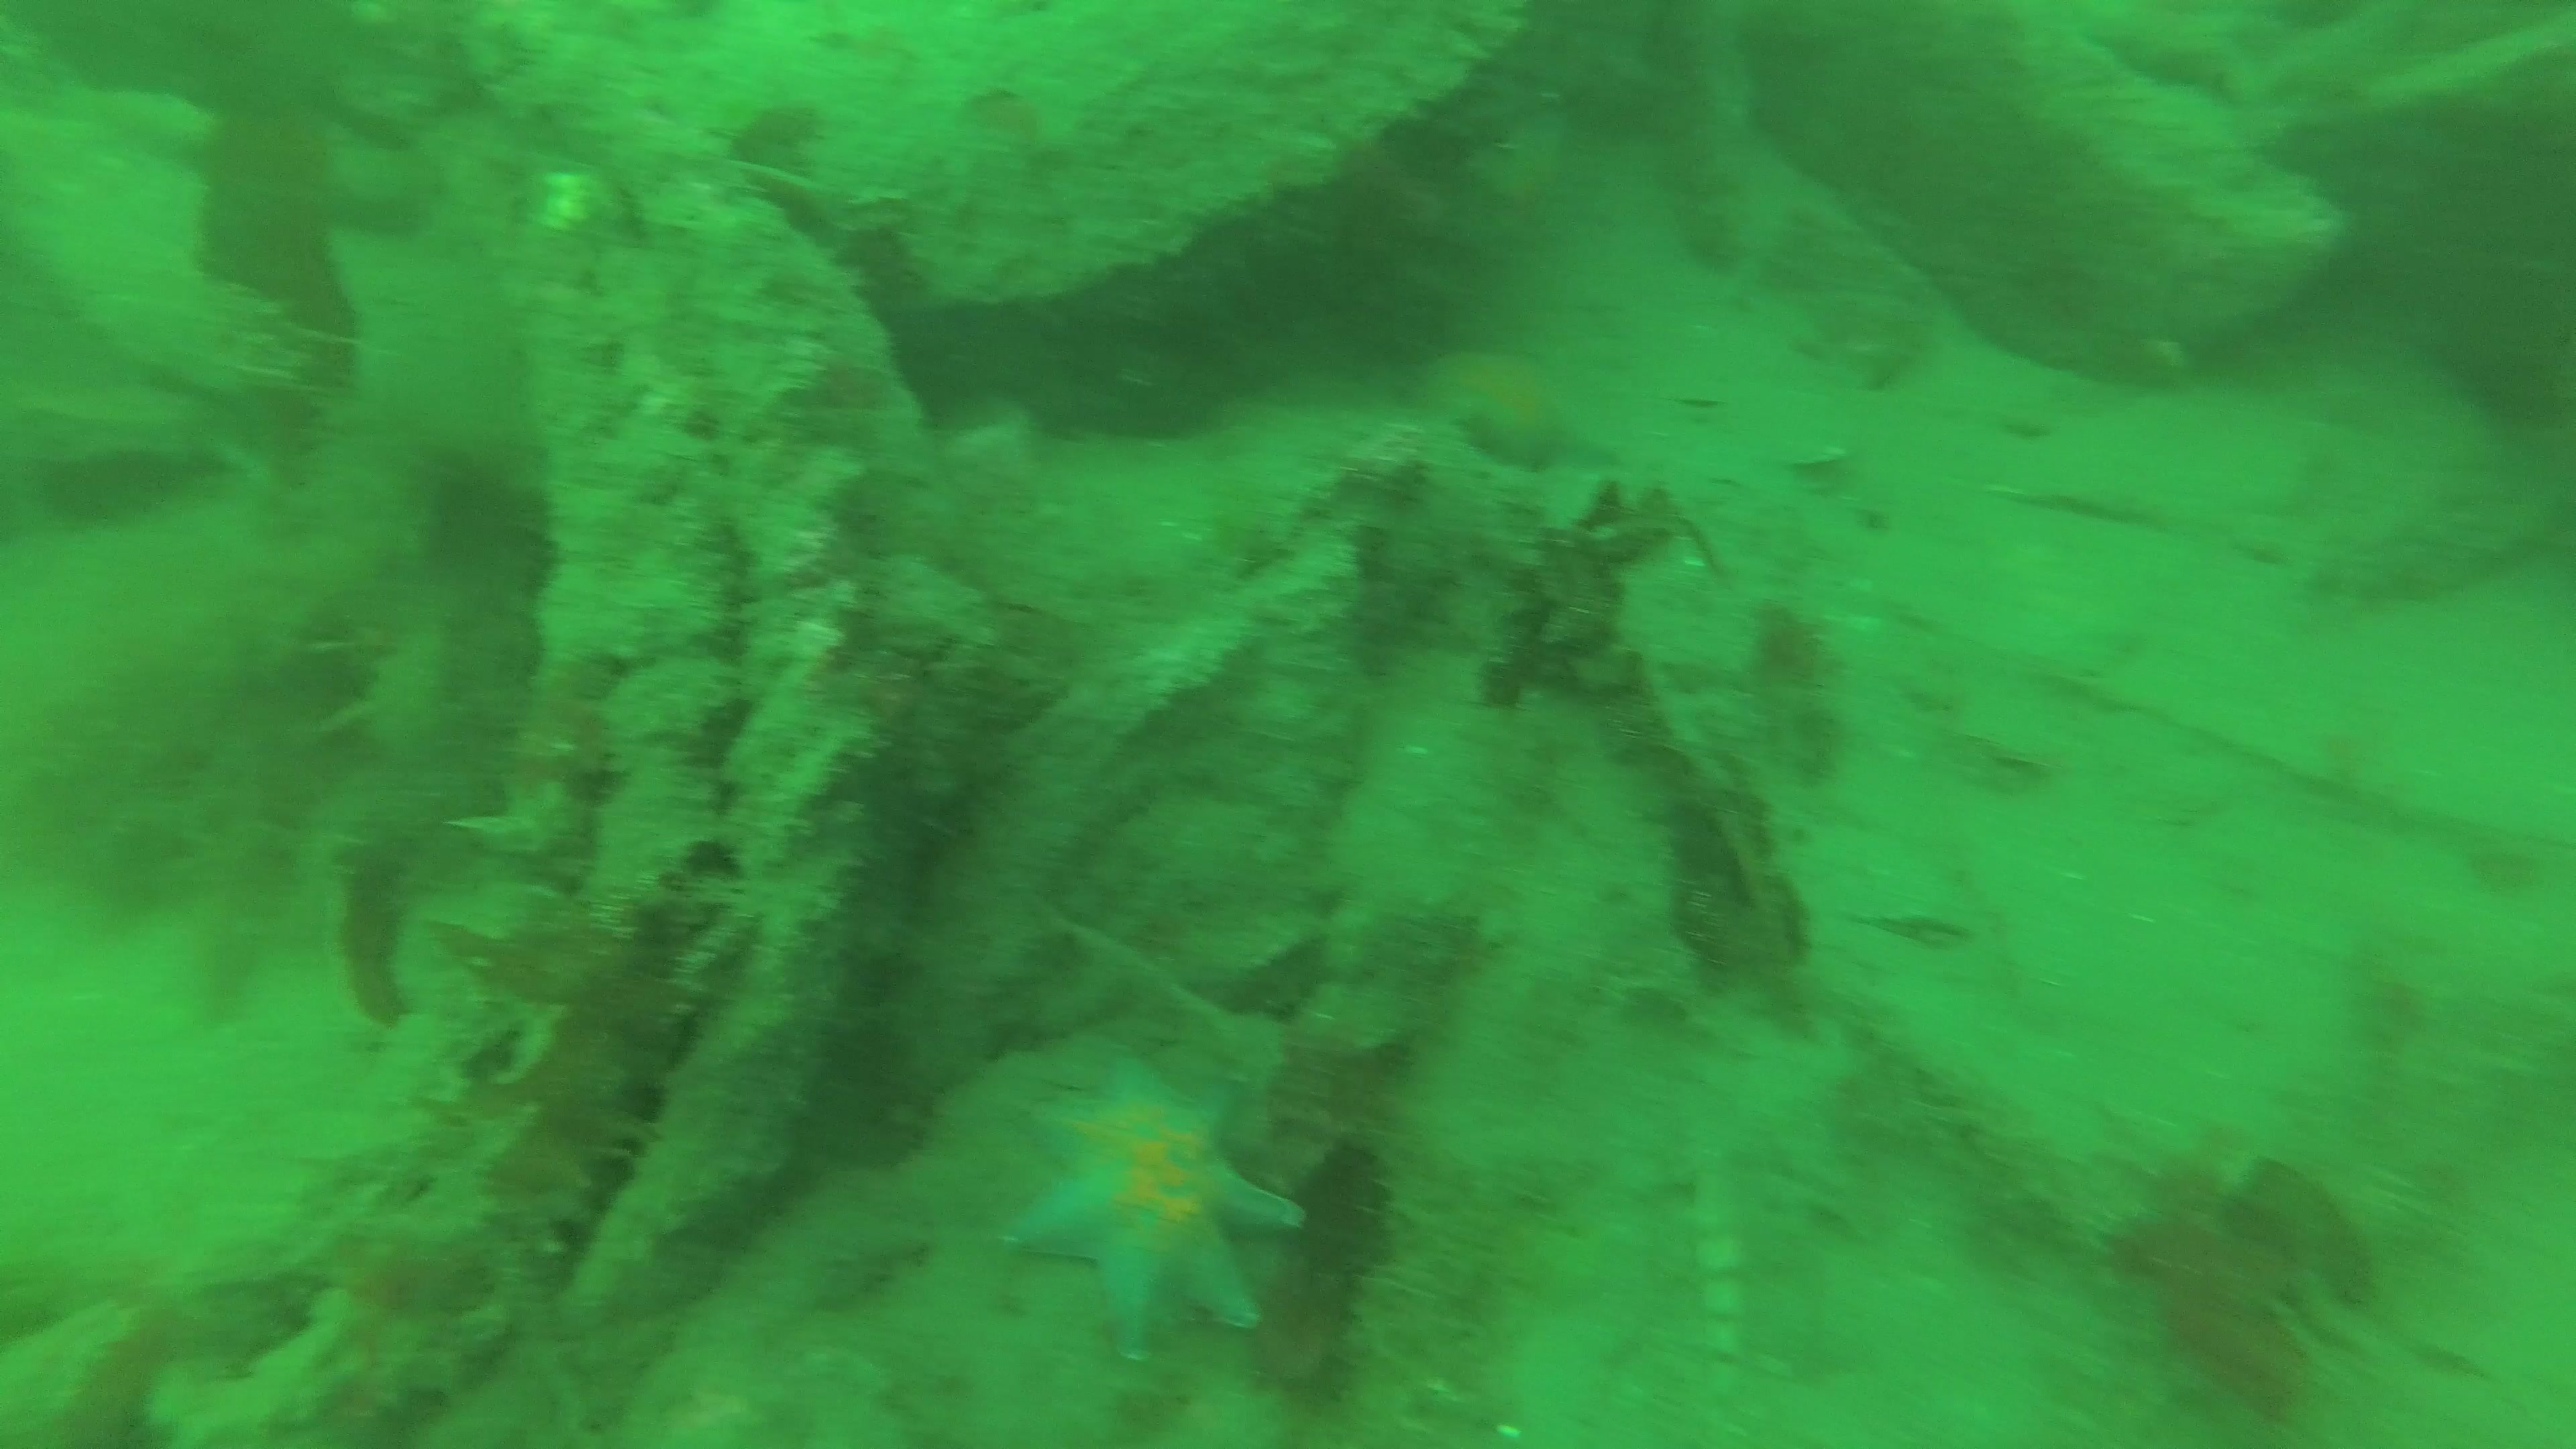starfish: (996, 1051, 1307, 1366), (1419, 347, 1621, 472)
